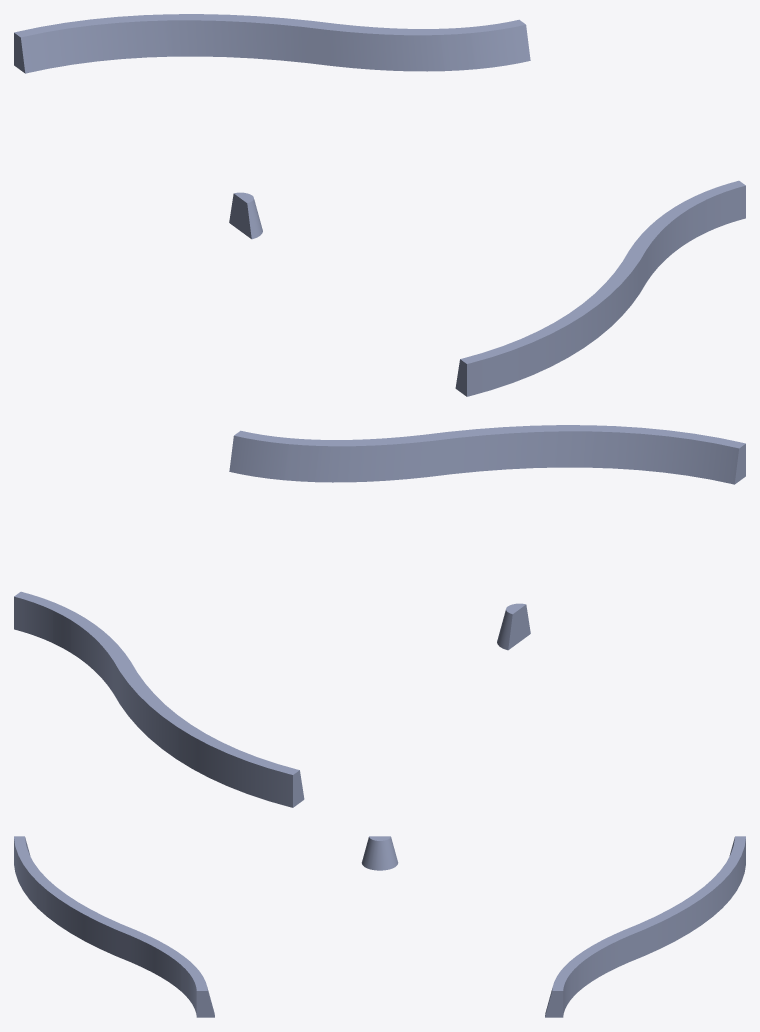
The model's file is road-split-barrier.glb.
3 views of the same model, one above another, from view 1: azimuth 30°, elevation 25°; view 2: azimuth 150°, elevation 25°; view 3: azimuth 270°, elevation 25° (orthographic). The views are drawn at different scales.
Parts seen in each view (by area): view 1: road-split-barrier; view 2: road-split-barrier; view 3: road-split-barrier.
Part boxes in pixels (x1,y1,x2,y2): road-split-barrier: (14,14,745,396); road-split-barrier: (14,425,745,807); road-split-barrier: (14,836,745,1017).
Bounding box in the file's own units: 1 × 0.08 × 2.
1 material, 1 textured.
